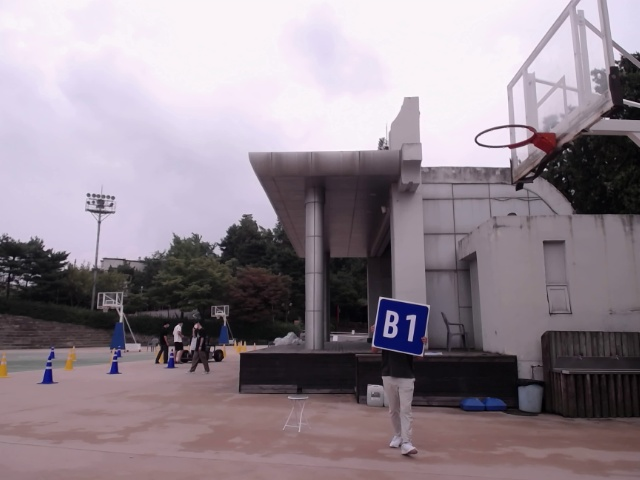delivery_b1: (372, 298, 430, 356)
